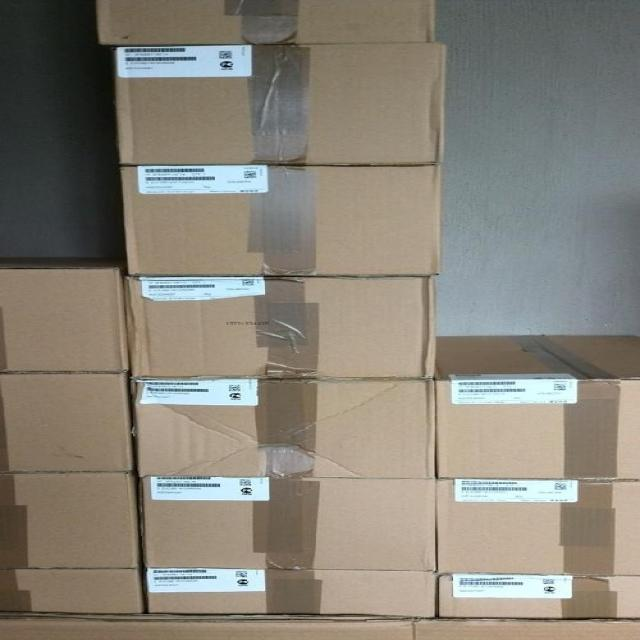Carton: (0, 272, 639, 482), (115, 44, 440, 168), (120, 168, 438, 273), (5, 376, 129, 475), (435, 334, 639, 380)
